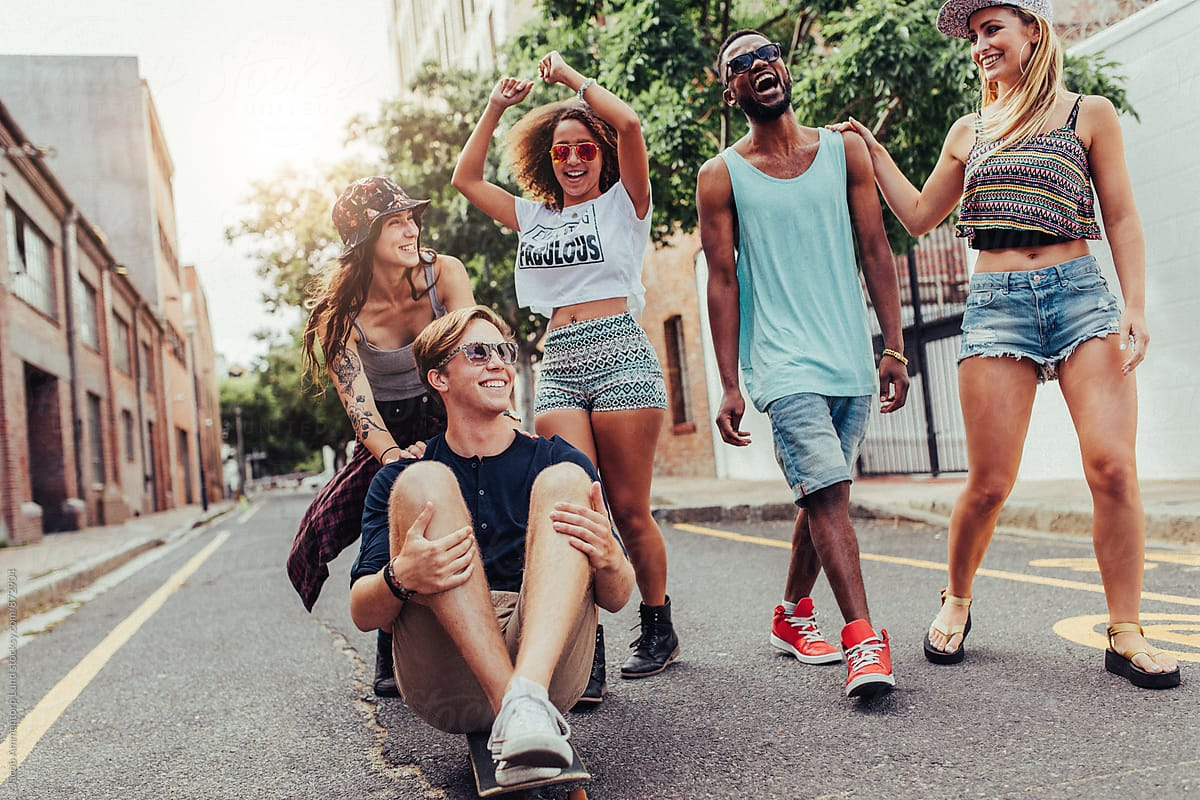Person: (906, 5, 1170, 664), (694, 17, 923, 682), (346, 317, 582, 711), (464, 58, 641, 446)
